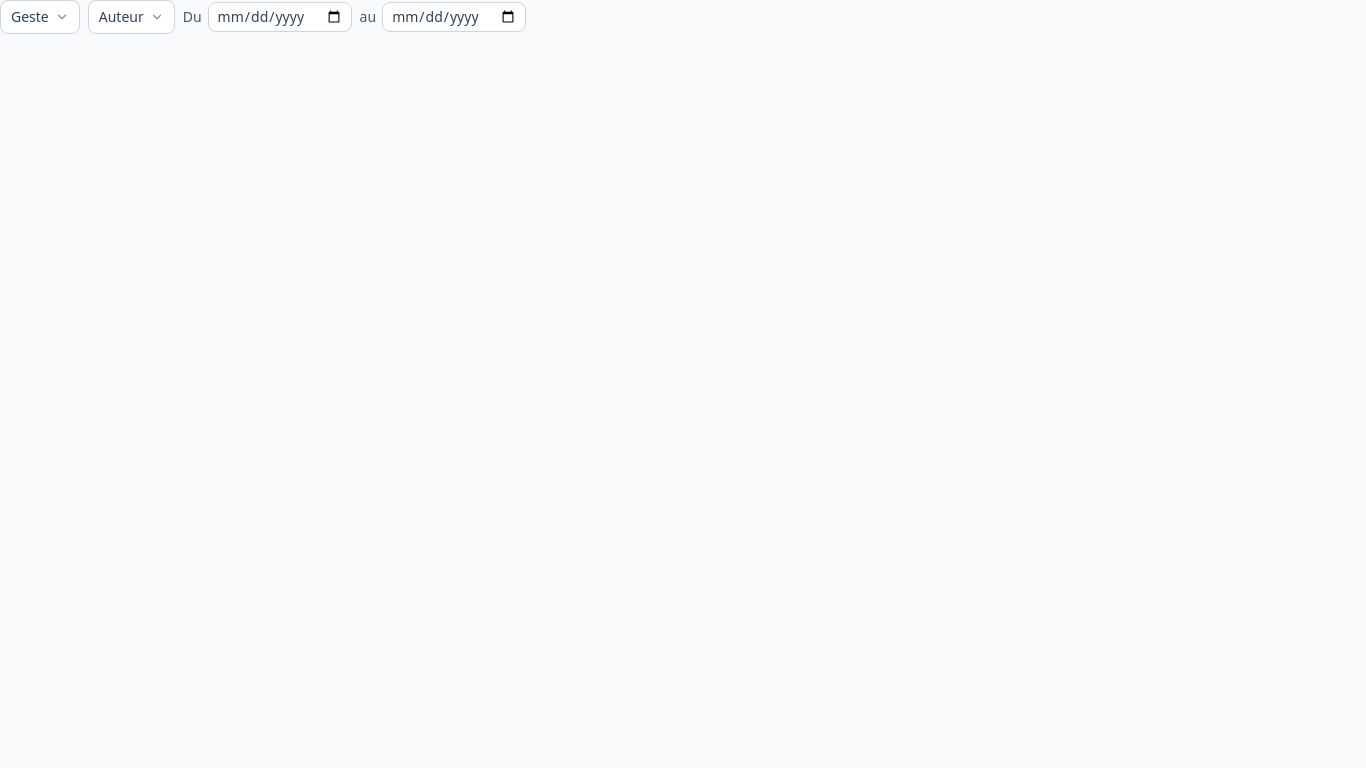
AuditLogFilters › offers the gestures under the family they belong to
This screenshot has width=1366, height=768.
Click the button "Geste": (40, 17) [0,0,80,34]
(page scrolled)
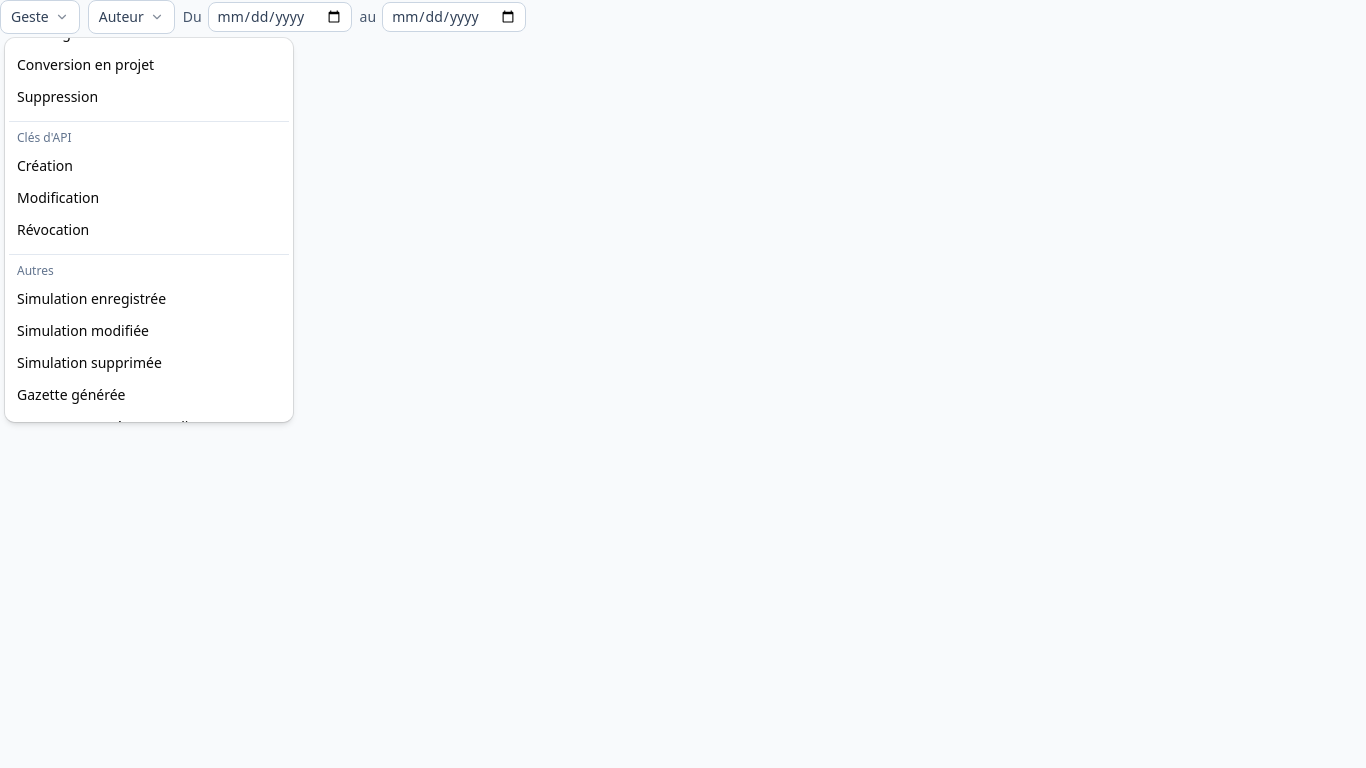
Expected: the text "Clés d'API" is shown, [9,121,289,150]
Expected: the text "Révocation" is shown, [17,220,89,239]
